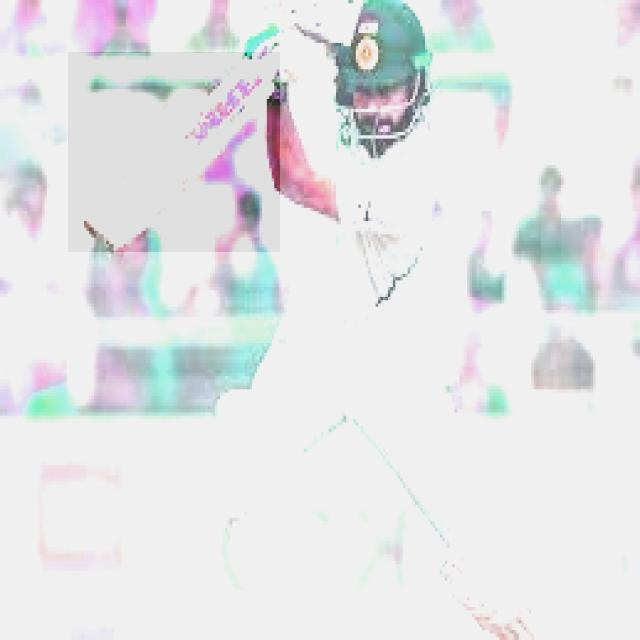bat: (71, 53, 281, 252)
toe: (79, 223, 123, 249)
